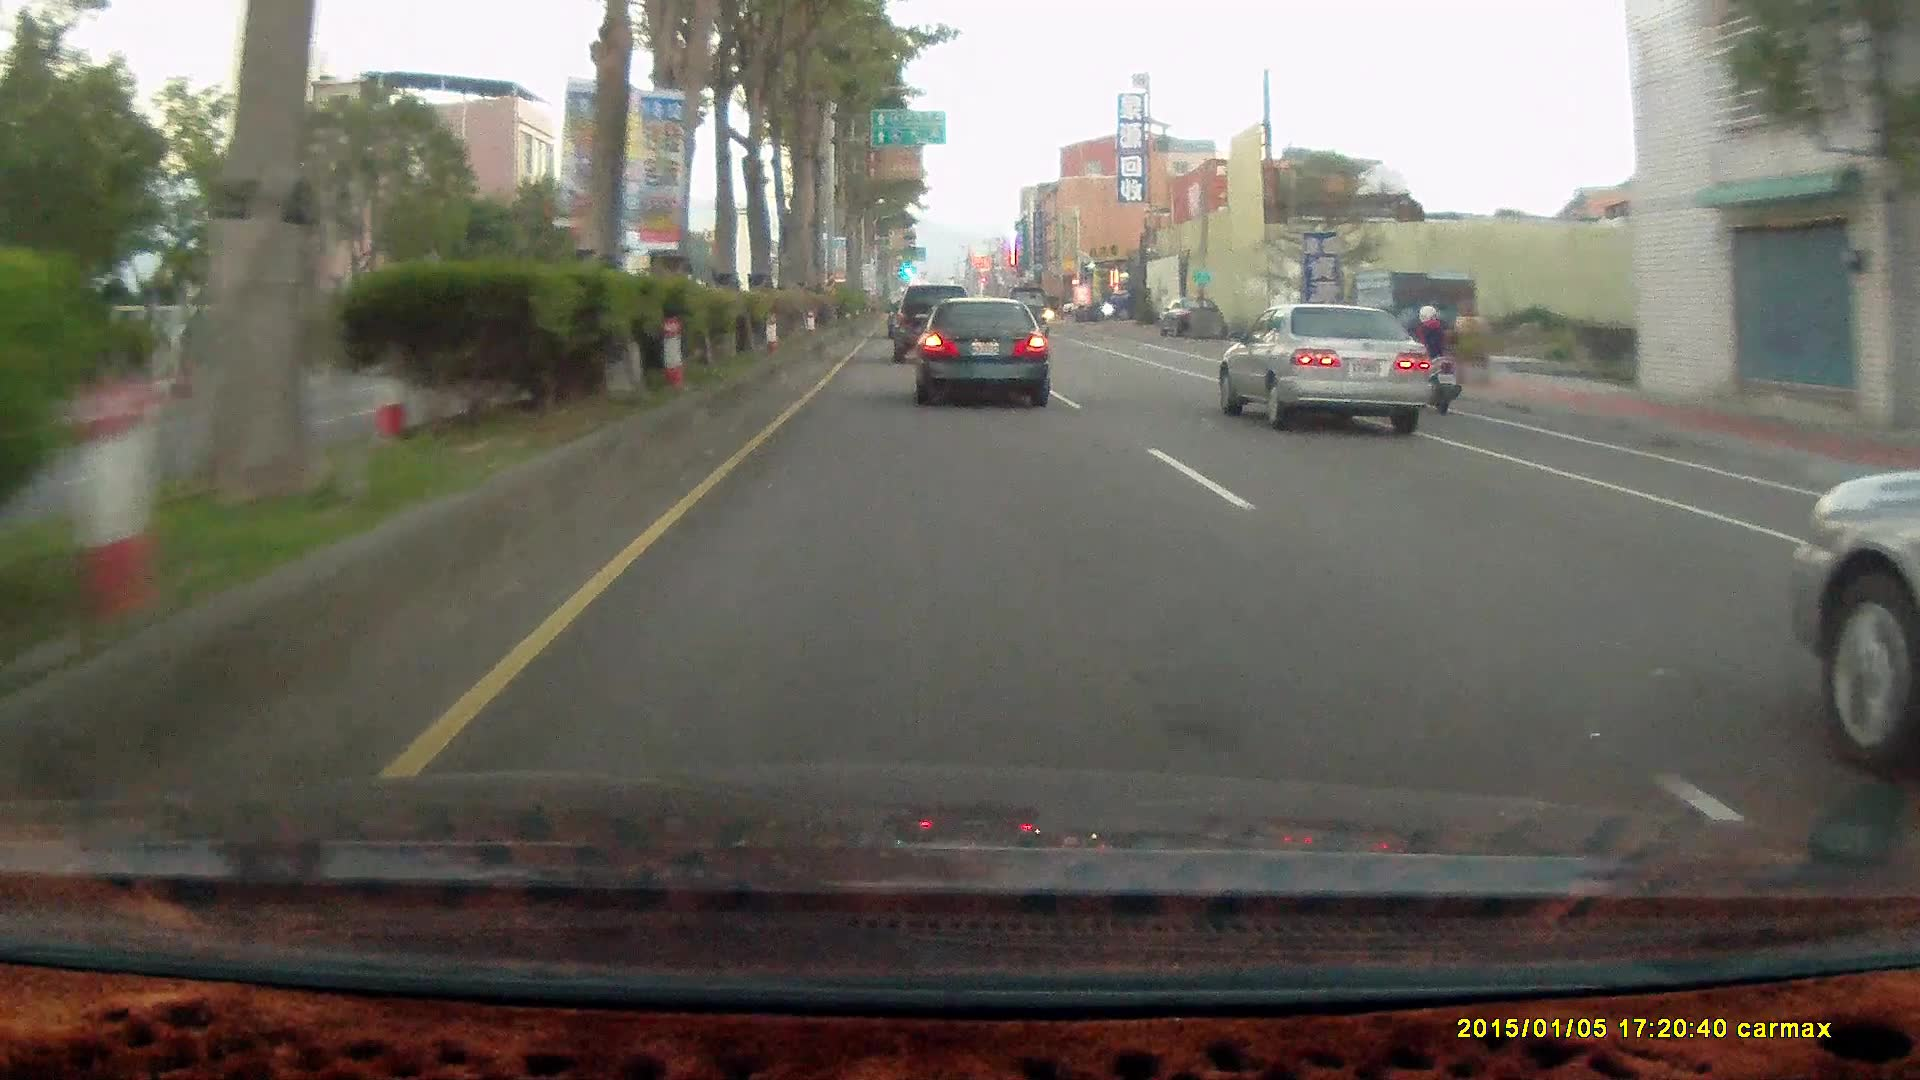rider: (1387, 292, 1471, 421), (1393, 301, 1457, 415)
vehicle: (1783, 441, 1920, 775), (1222, 302, 1436, 436), (1217, 300, 1432, 434), (910, 294, 1049, 405), (913, 297, 1051, 402), (1344, 270, 1477, 369), (889, 282, 972, 361), (1155, 295, 1227, 341), (1097, 283, 1160, 319), (1004, 283, 1049, 334)
